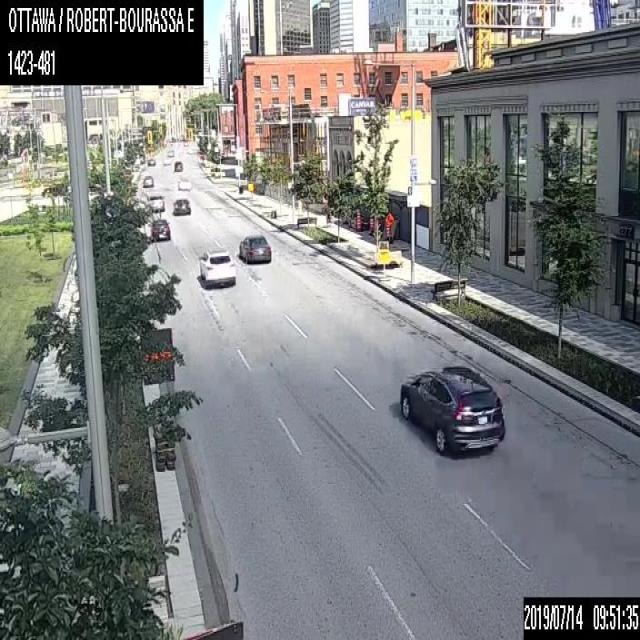construction: (140, 327, 174, 470), (376, 247, 389, 280), (383, 212, 392, 240), (354, 211, 361, 232), (368, 212, 374, 236), (247, 182, 253, 200), (296, 198, 302, 214)
vehicle: (399, 364, 505, 453), (198, 246, 236, 286), (238, 232, 270, 264), (150, 218, 169, 242), (147, 193, 164, 211), (173, 199, 190, 214), (177, 178, 189, 190), (142, 174, 153, 187), (174, 160, 182, 171), (146, 157, 154, 165), (167, 149, 173, 156)
